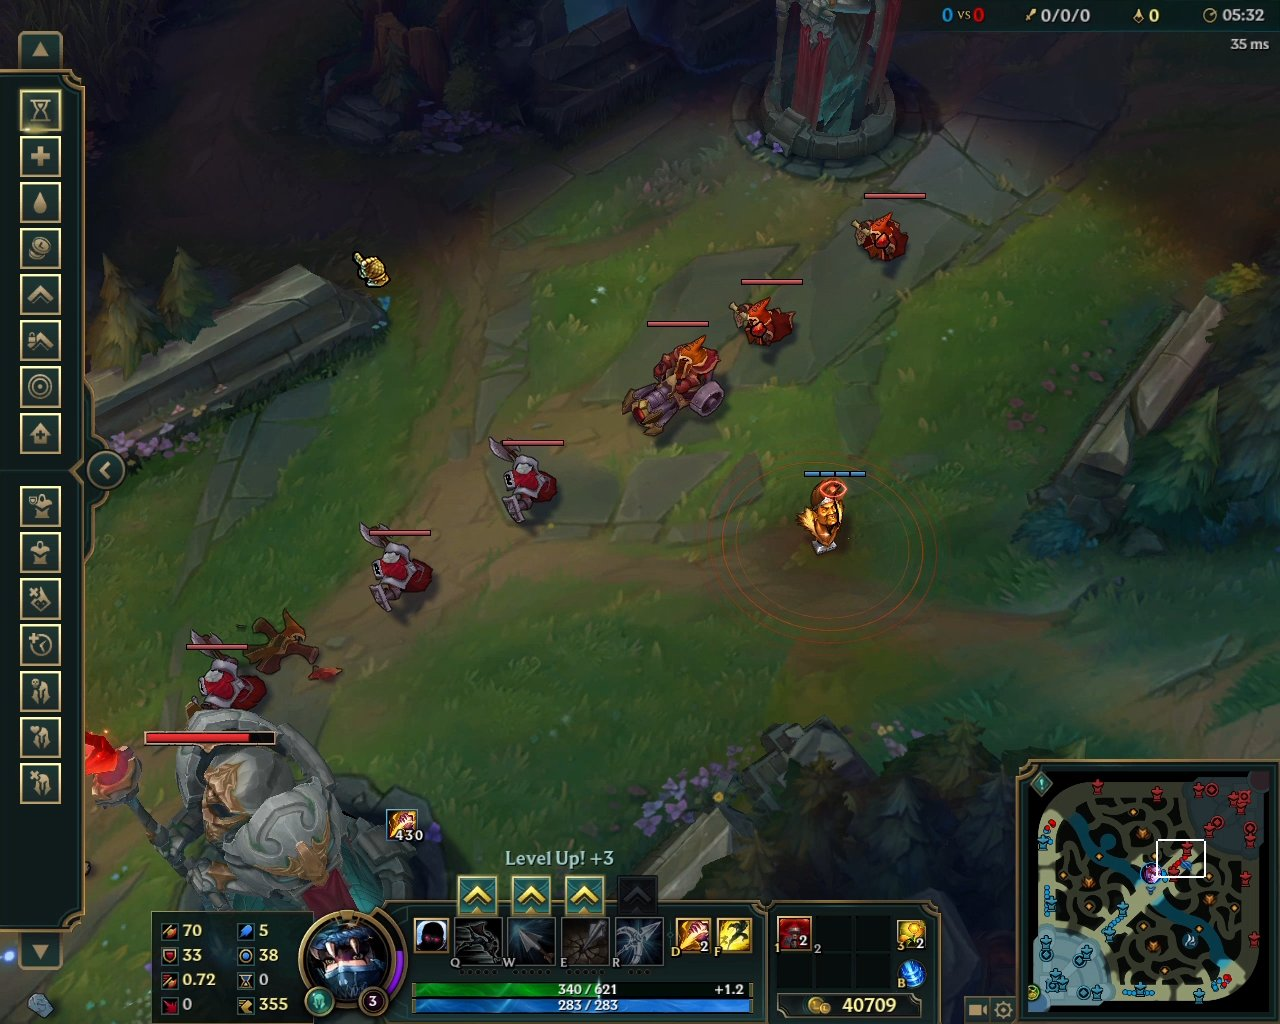EnemyMinion: (615, 321, 726, 444), (481, 433, 566, 529), (354, 520, 434, 616), (185, 623, 267, 711), (845, 193, 926, 265), (726, 278, 802, 351)
Tower: (83, 711, 445, 909)
